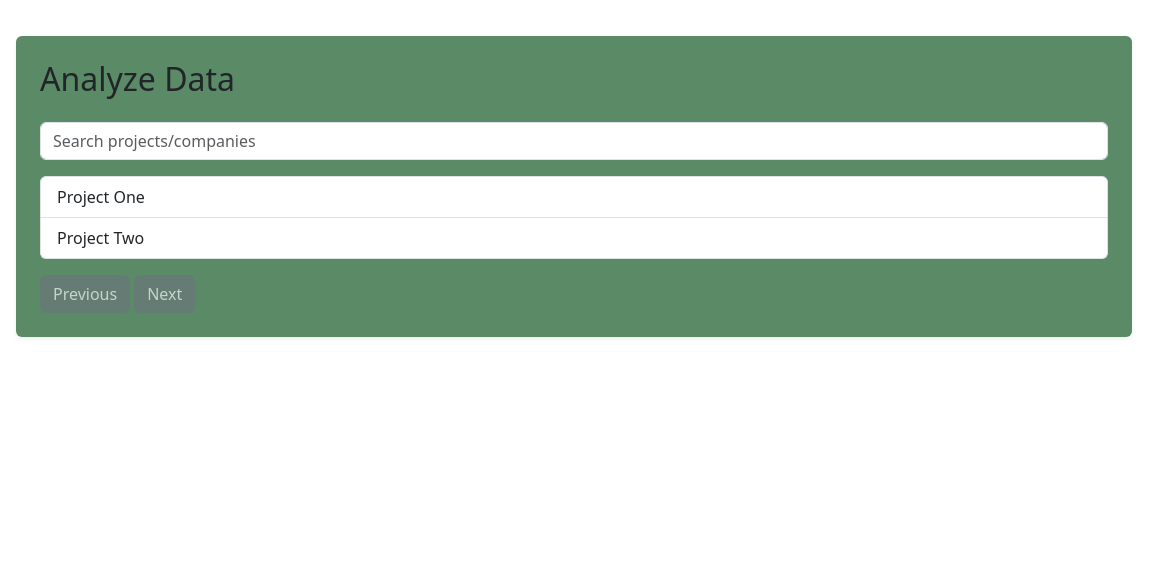
Test: Analyze Page › fetches and displays chart controls when a project is clicked
Click the list item "Project One" at x=574, y=197, box [40,176,1108,218]
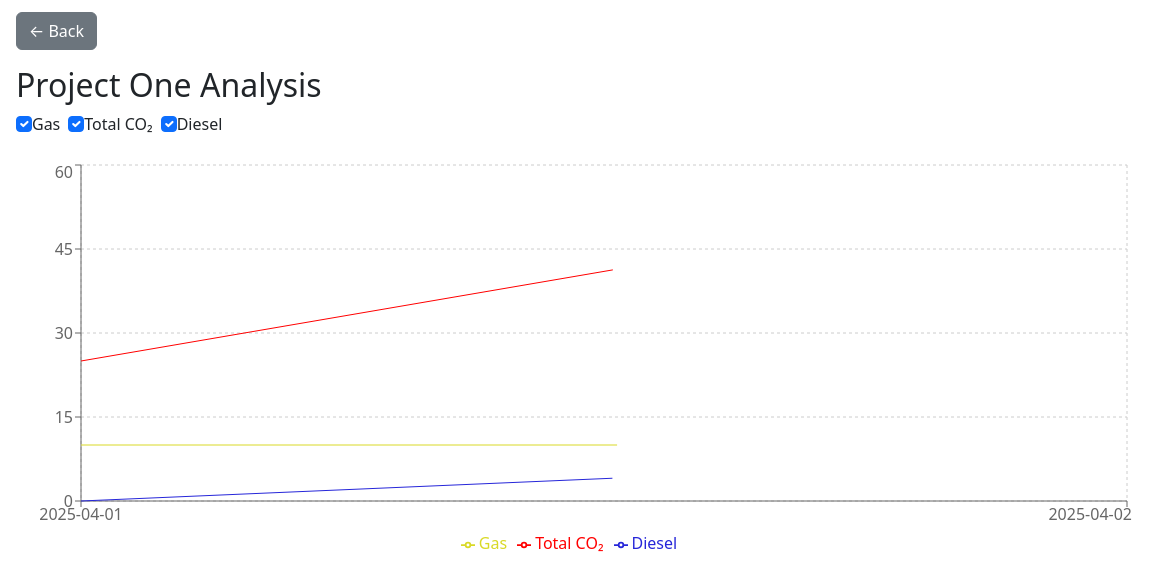
Now the button "← Back" is shown, box [16,12,97,50]
Now the heading "Project One Analysis" is shown, box [16,63,322,106]
Now the checkbox labelled "Gas" is checked, box [16,116,32,132]
